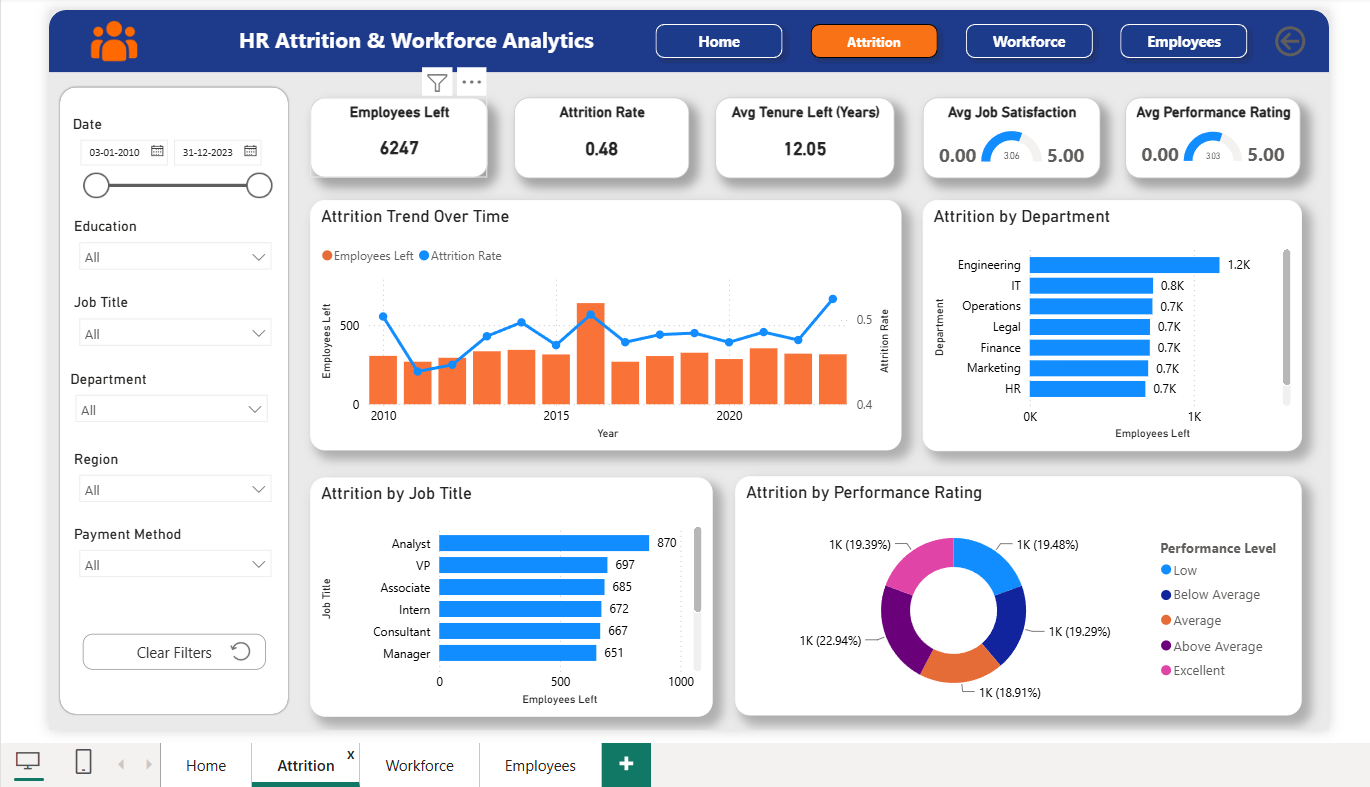

The page's visual inventory and layout, read from the dashboard file:
{"tool":"powerbi","page":{"name":"Attrition","canvas":[1280,720],"ordinal":1},"visuals":[{"type":"shape","box":[0,0,1280,62.5],"z":0},{"type":"image","box":[8.8,7.5,112.5,47.5],"z":1000},{"type":"textbox","box":[165,7.5,423.8,97.5],"z":2000},{"type":"pageNavigator","box":[597.5,5,613.8,52.5],"z":3000},{"type":"card","title":"Employees Left","fields":{"Values":["MeasuresT.Employees Left"]},"box":[261.6,87.7,177.3,80],"z":4000},{"type":"card","title":"Attrition Rate","fields":{"Values":["MeasuresT.Attrition Rate"]},"box":[464.7,87.7,175,80.7],"z":5000},{"type":"card","title":"Avg Tenure Left (Years)","fields":{"Values":["MeasuresT.Avg Tenure Left"]},"box":[666.4,87.7,179,80.8],"z":6000},{"type":"gauge","title":"Avg Job Satisfaction","fields":{"Y":["Avg(Fact_Employee_Attrition.Job_Satisfaction)"]},"box":[873.7,87.7,177.3,80.8],"z":7000},{"type":"gauge","title":"Avg Performance Rating","fields":{"Y":["Avg(Fact_Employee_Attrition.Performance_Rating)"]},"box":[1076.9,87.7,175,80.8],"z":8000},{"type":"lineStackedColumnComboChart","title":"Attrition Trend Over Time","fields":{"Category":["Dim_Date.Full_Date.Variation.Date Hierarchy.Year","Dim_Date.Full_Date.Variation.Date Hierarchy.Quarter","Dim_Date.Full_Date.Variation.Date Hierarchy.Month","Dim_Date.Full_Date.Variation.Date Hierarchy.Day"],"Y2":["MeasuresT.Attrition Rate"],"Y":["MeasuresT.Employees Left"]},"box":[261.6,190.6,591,250.4],"z":9000},{"type":"barChart","title":"Attrition by Department","fields":{"Category":["Dim_Department.Department"],"Y":["MeasuresT.Employees Left"]},"box":[873.5,190.6,378.8,250.9],"z":10000},{"type":"barChart","title":"Attrition by Job Title","fields":{"Y":["MeasuresT.Employees Left"],"Category":["Dim_Job_Title.Job_Title"]},"box":[261.6,467.5,402.1,239],"z":11000},{"type":"actionButton","box":[33.4,623.3,183.4,36.2],"z":11000,"group":"g1"},{"type":"donutChart","title":"Attrition by Performance Rating","fields":{"Y":["MeasuresT.Employees Left"],"Category":["Fact_Employee_Attrition.Performance Level"]},"box":[685.9,466.1,566.3,239],"z":12000},{"type":"shape","box":[8.8,75,232.5,631.2],"z":13000},{"type":"actionButton","box":[1221.2,11.2,58.8,40],"z":14000},{"type":"slicer","title":"Date","fields":{"Values":["Dim_Date.Full_Date"]},"box":[19.3,105,212.5,86.2],"z":15000},{"type":"slicer","title":"Education","fields":{"Values":["Dim_Education.Education"]},"box":[19.5,207.3,212.5,91.2],"z":16000},{"type":"slicer","title":"Job Title","fields":{"Values":["Dim_Job_Title.Job_Title"]},"box":[19.5,283.8,212.5,91.2],"z":17000},{"type":"slicer","title":"Payment Method","fields":{"Values":["Dim_Payment_Method.Payment_Method"]},"box":[19.5,514.8,212.3,91.7],"z":18000},{"type":"slicer","title":"Region","fields":{"Values":["Dim_Region.Region"]},"box":[19.5,439.7,212.3,91.7],"z":19000},{"type":"slicer","title":"Department","fields":{"Values":["Dim_Department.Department"]},"box":[16.7,360.3,212.5,91.2],"z":20000},{"type":"group","id":"g1","title":"Group 1","box":[33.4,623.3,197.6,36.2],"z":20001},{"type":"image","box":[149.2,630.5,82,20],"z":21000,"group":"g1"}]}

Visuals, with their boxes on the page's 1280x720 design canvas (x1, y1, x2, y2). These are canvas units, not pixel positions in the 1370x787 screenshot, which may show the page scaled, cropped or inside an application window:
shape: 0, 0, 1280, 62
image: 9, 8, 121, 55
textbox: 165, 8, 589, 105
pageNavigator: 598, 5, 1211, 58
"Employees Left" card: 262, 88, 439, 168
"Attrition Rate" card: 465, 88, 640, 168
"Avg Tenure Left (Years)" card: 666, 88, 845, 168
"Avg Job Satisfaction" gauge: 874, 88, 1051, 168
"Avg Performance Rating" gauge: 1077, 88, 1252, 168
"Attrition Trend Over Time" lineStackedColumnComboChart: 262, 191, 853, 441
"Attrition by Department" barChart: 874, 191, 1252, 442
"Attrition by Job Title" barChart: 262, 468, 664, 706
actionButton: 33, 623, 217, 660
"Attrition by Performance Rating" donutChart: 686, 466, 1252, 705
shape: 9, 75, 241, 706
actionButton: 1221, 11, 1280, 51
"Date" slicer: 19, 105, 232, 191
"Education" slicer: 20, 207, 232, 298
"Job Title" slicer: 20, 284, 232, 375
"Payment Method" slicer: 20, 515, 232, 606
"Region" slicer: 20, 440, 232, 531
"Department" slicer: 17, 360, 229, 452
"Group 1" group: 33, 623, 231, 660
image: 149, 630, 231, 650
